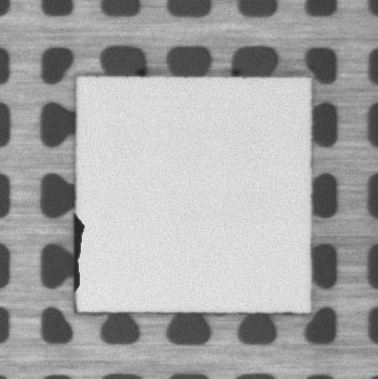DIE_BROKEN: (71, 216, 87, 298)
